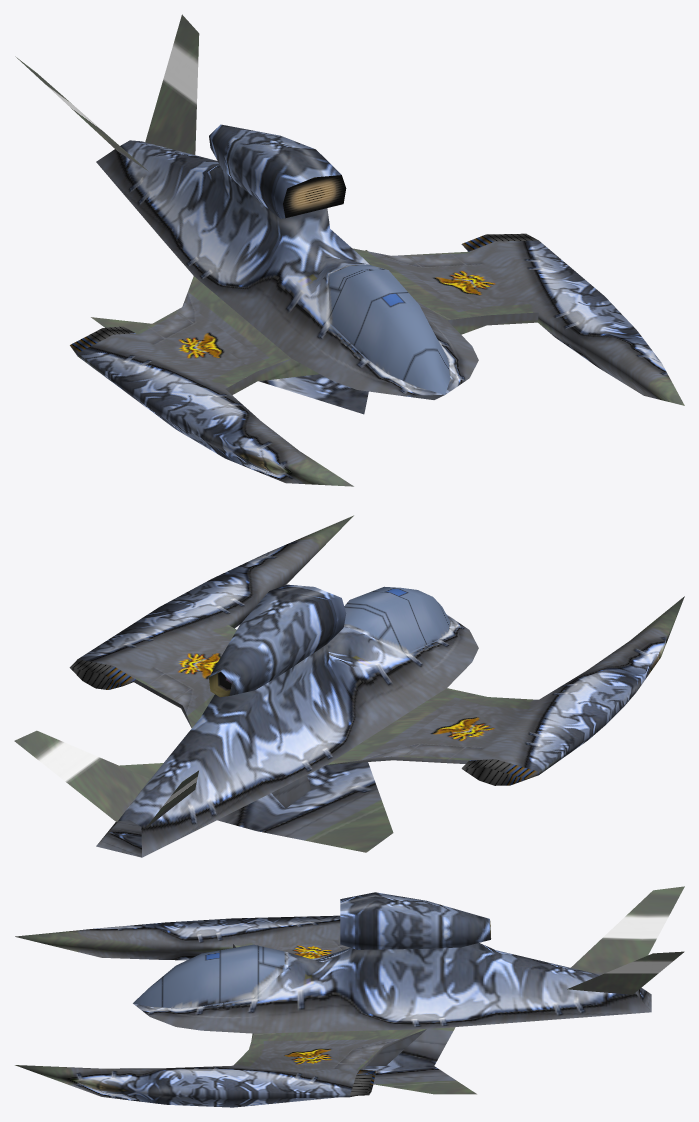
File: Drag Boat.glb
3 renders of one model, top to bottom at view 1: azimuth 30°, elevation 25°; view 2: azimuth 150°, elevation 25°; view 3: azimuth 270°, elevation 25°, orthographic. The views are drawn at different scales.
Parts seen in each view (by area): view 1: hull inside*, cockpit; view 2: hull inside*, cockpit; view 3: hull inside*, cockpit.
Part boxes in pixels (x1,y1,x2,y2): hull inside*: [15, 14, 684, 486]; cockpit: [328, 264, 450, 394]; hull inside*: [14, 515, 684, 857]; cockpit: [344, 586, 449, 652]; hull inside*: [15, 886, 684, 1107]; cockpit: [133, 944, 288, 1008].
Size of the model in its own units: 3.87 by 1.69 by 6.13.
2 materials, 2 textured.
